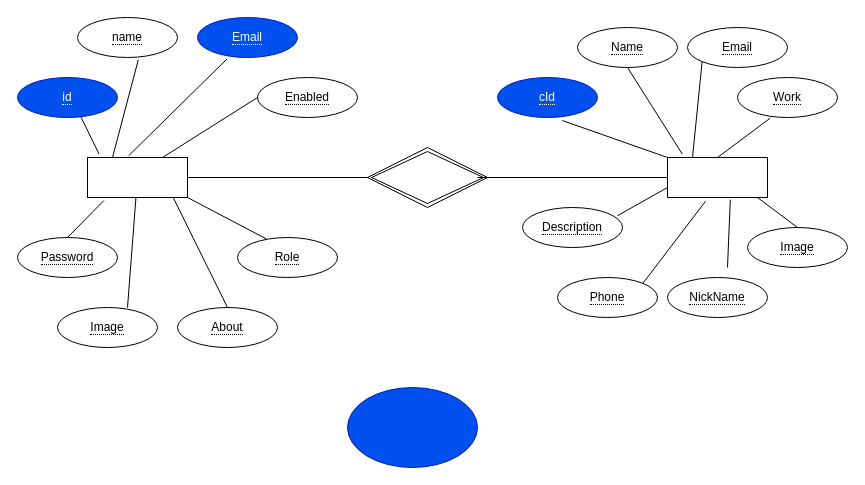
The diagram is 865 pixels wide and 485 high, and some of its shapes have lost their labels. Each missing label, with the centre of its shape:
"CONTACT" belongs at point (717, 177).
"One to Many" belongs at point (427, 177).
"Primary Key" belongs at point (412, 427).
"USER" belongs at point (137, 177).
